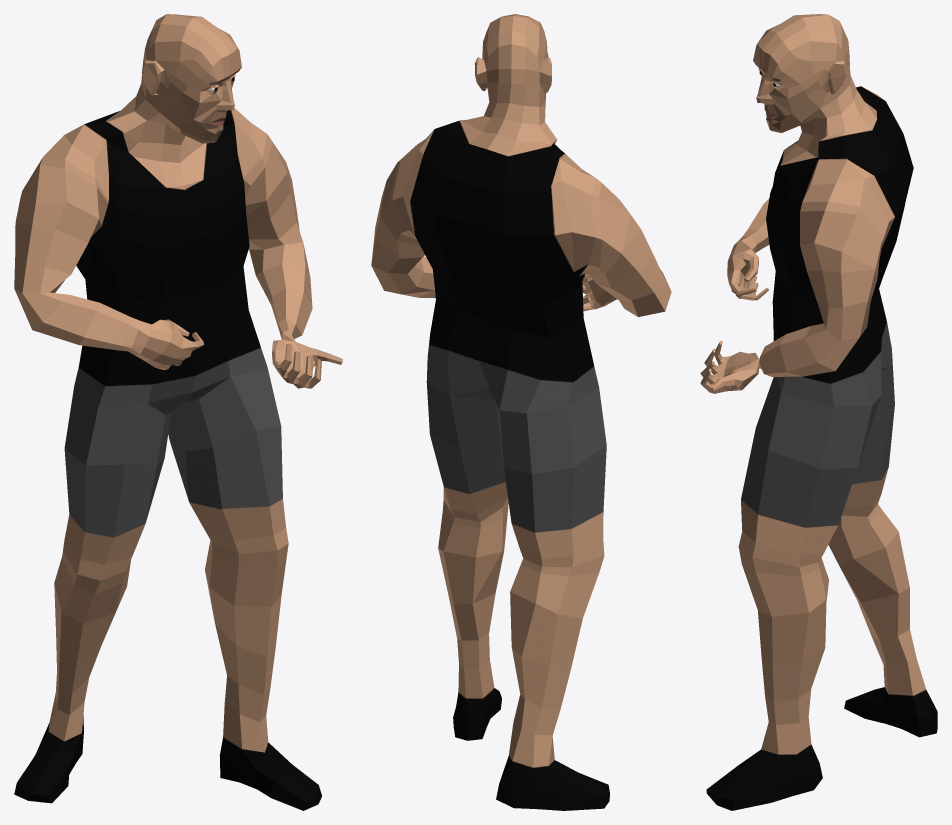
The model's file is PlayerIdle(170).obj.
3 views of the same model, side by side, from view 1: azimuth 30°, elevation 25°; view 2: azimuth 150°, elevation 25°; view 3: azimuth 270°, elevation 25° (orthographic). The views are drawn at different scales.
Visible parts, largest first — view 1: Plane002; view 2: Plane002; view 3: Plane002.
Part boxes in pixels (<box>): Plane002: <box>14,14,342,810</box>; Plane002: <box>371,14,671,810</box>; Plane002: <box>700,14,937,810</box>.
Bounding box in the file's own units: 716 × 1798 × 517.
